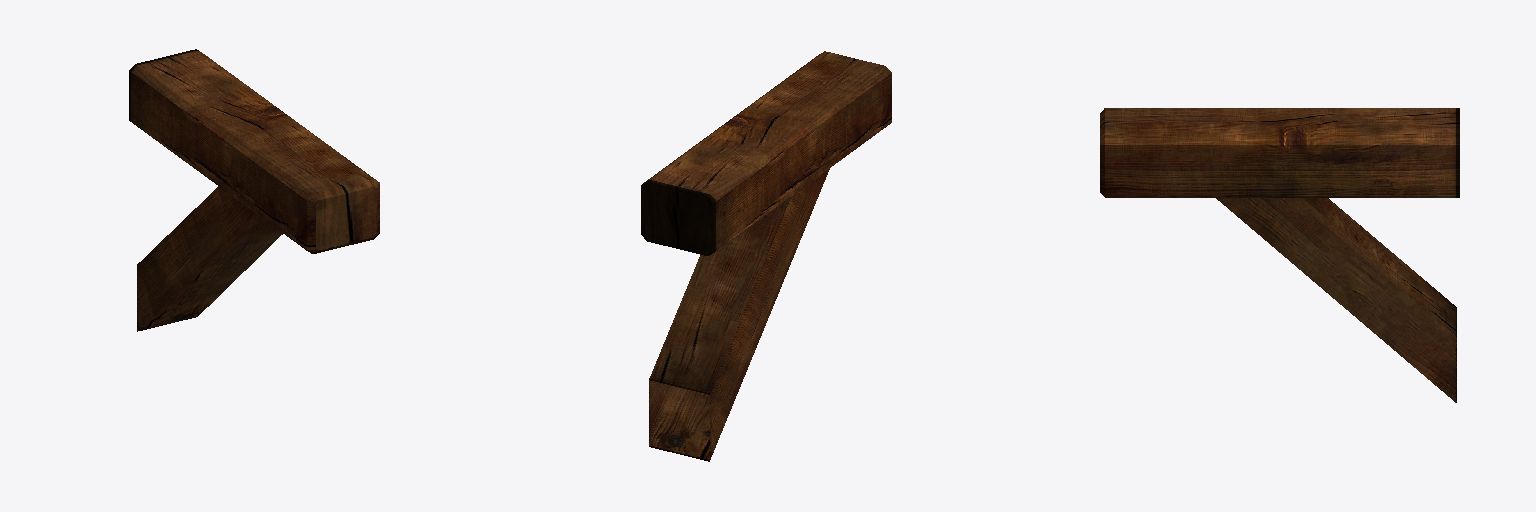
The picture shows the model from 3 angles: view 1: azimuth 30°, elevation 25°; view 2: azimuth 150°, elevation 25°; view 3: azimuth 270°, elevation 25°; orthographic projection.
Visible parts, largest first — view 1: Support_Wood_small029; view 2: Support_Wood_small029; view 3: Support_Wood_small029.
Part boxes in pixels (x1,y1,x2,y2): Support_Wood_small029: (129,49,379,331); Support_Wood_small029: (641,51,891,461); Support_Wood_small029: (1100,108,1459,402).
Size of the model in its own units: 7.33 by 25.57 by 31.34.
Materials: 1 (1 with a texture image).